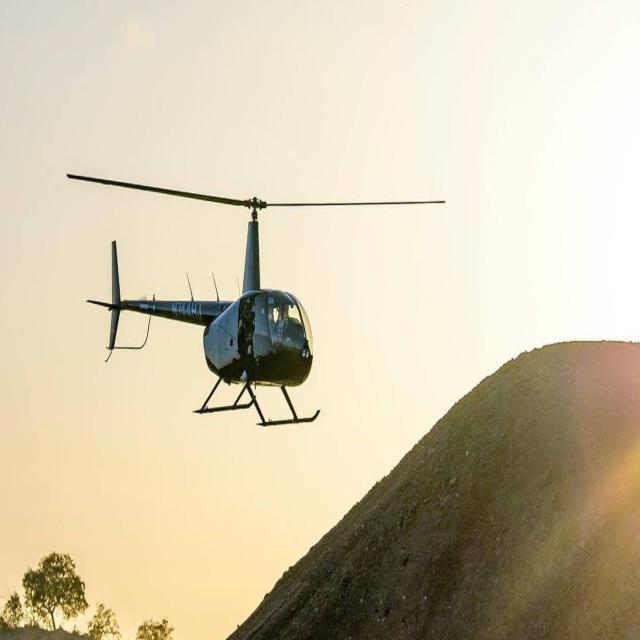CIV_HELO: (83, 194, 320, 430)
